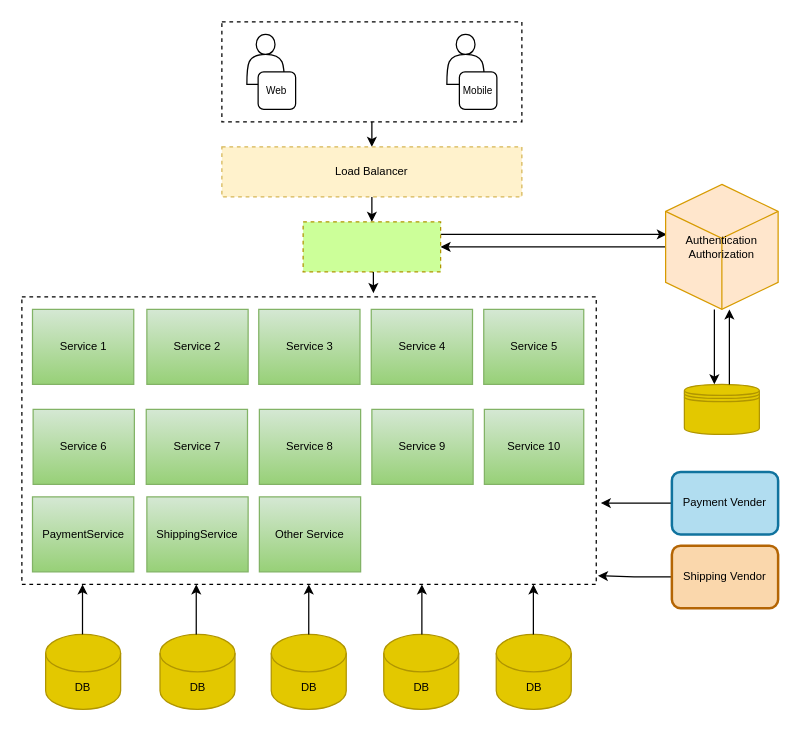
Image size: 801x731. Some labels were removed from this diagram. The shapes that lost their labels are listed below. From the top down, each one's box as (x1, y1, x2, y2) in pixels, then its label:
(302, 221, 441, 272): API - Gateway
(683, 383, 759, 434): Redis
